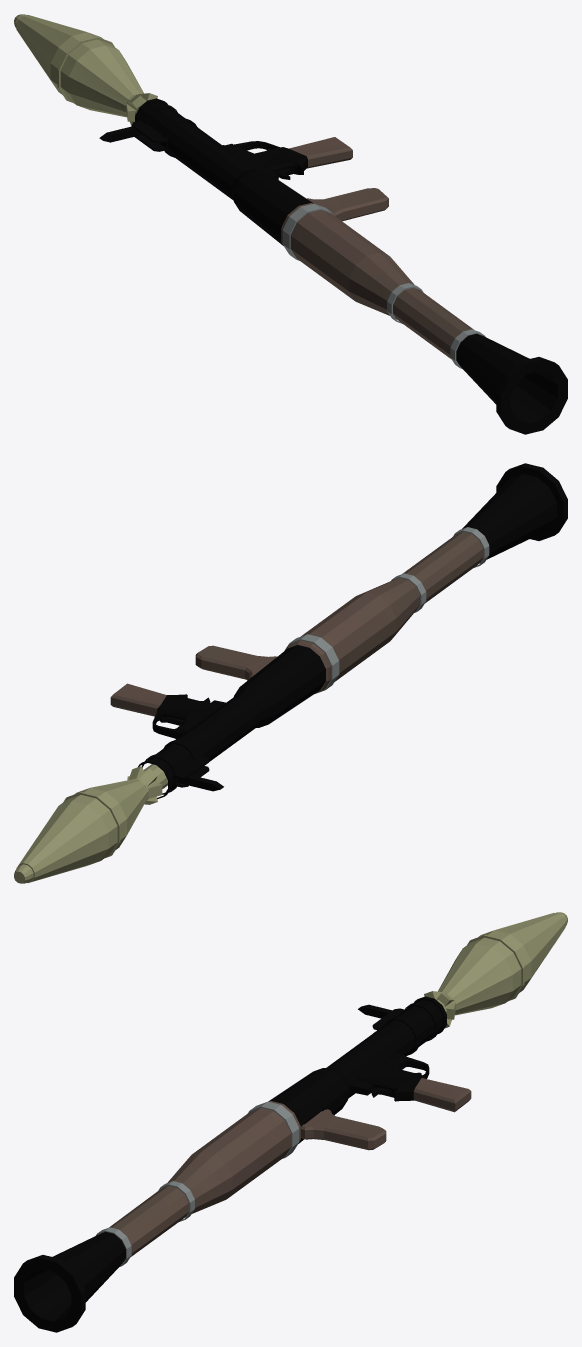
Rendered from Bazooka.glb.
3 renders of one model, top to bottom at view 1: azimuth 30°, elevation 25°; view 2: azimuth 150°, elevation 25°; view 3: azimuth 330°, elevation 25°, orthographic.
Parts seen in each view (by area): view 1: Bazooka.001; view 2: Bazooka.001; view 3: Bazooka.001.
Boxes of the visible parts, x1,y1,x2,y2 form: Bazooka.001: (14, 14, 567, 434); Bazooka.001: (14, 463, 567, 883); Bazooka.001: (14, 912, 567, 1332).
Bounding box in the file's own units: 0.6126 × 0.2374 × 3.14.
1 material, 1 textured.
